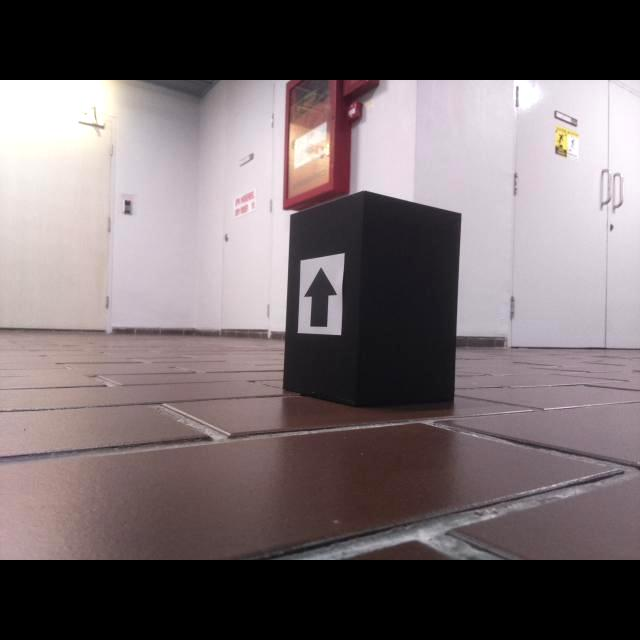UP: (303, 266, 338, 327)
